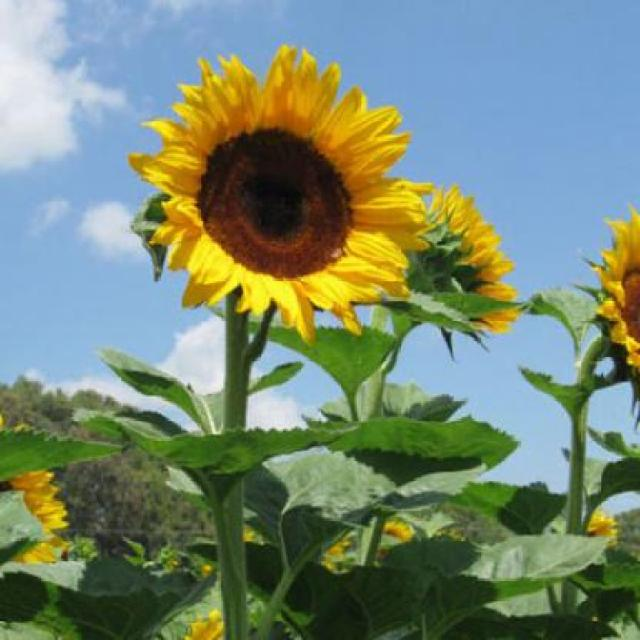sunflower: (138, 30, 436, 392)
